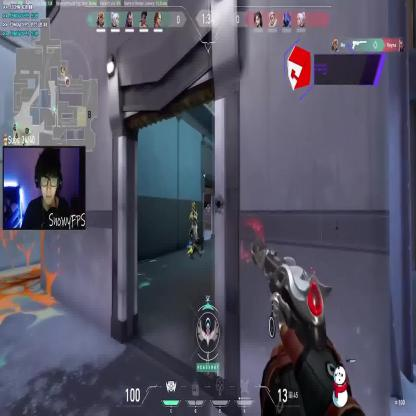enemy: (189, 202, 199, 247)
enemy_head: (191, 203, 196, 213)
